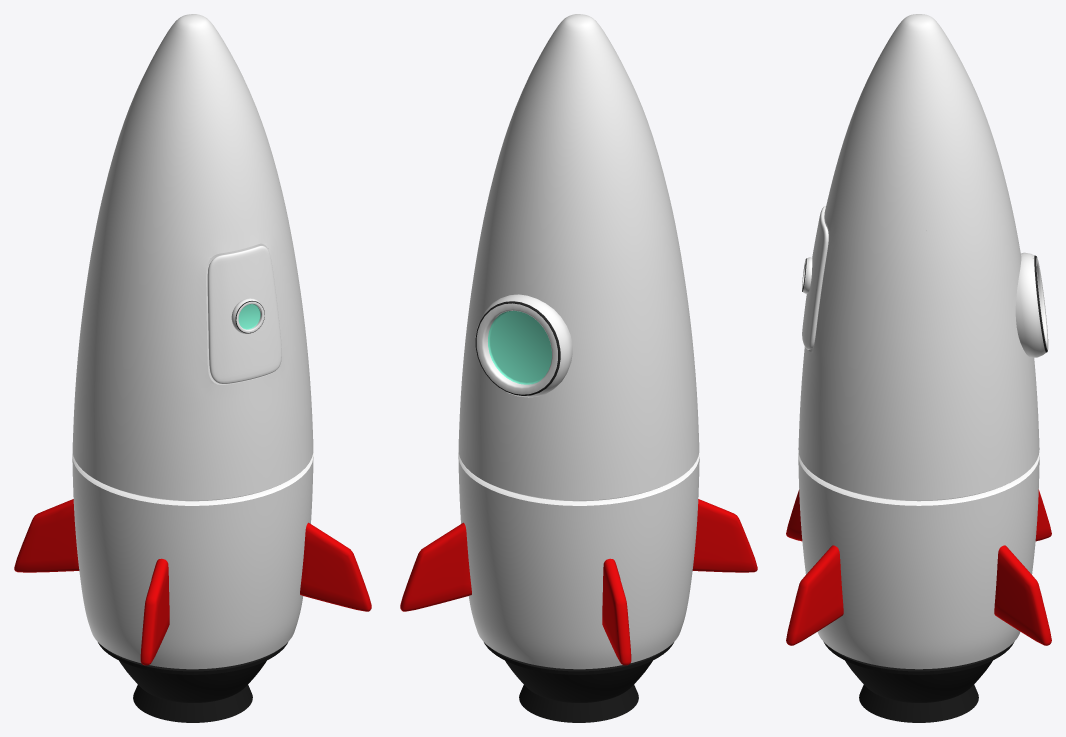
Rendered from rocket.glb.
3 renders of one model, left to right at view 1: azimuth 30°, elevation 25°; view 2: azimuth 150°, elevation 25°; view 3: azimuth 270°, elevation 25°, orthographic.
Parts seen in each view (by area): view 1: Rocket body, Rocket fin, Rocket hatch window; view 2: Rocket body, Rocket fin, Rocket window; view 3: Rocket body, Rocket fin, Rocket window.
Boxes of the visible parts, x1=… form: Rocket body: x1=72, y1=14, x2=313, y2=722; Rocket fin: x1=14, y1=499, x2=371, y2=665; Rocket hatch window: x1=231, y1=298, x2=264, y2=333; Rocket body: x1=458, y1=14, x2=699, y2=722; Rocket fin: x1=400, y1=499, x2=757, y2=665; Rocket window: x1=475, y1=294, x2=572, y2=397; Rocket body: x1=798, y1=14, x2=1039, y2=722; Rocket fin: x1=786, y1=489, x2=1051, y2=645; Rocket window: x1=1015, y1=252, x2=1048, y2=357.
Bounding box in the file's own units: 1.88 × 5.3 × 1.88.
Materials: 3 (2 with a texture image).
